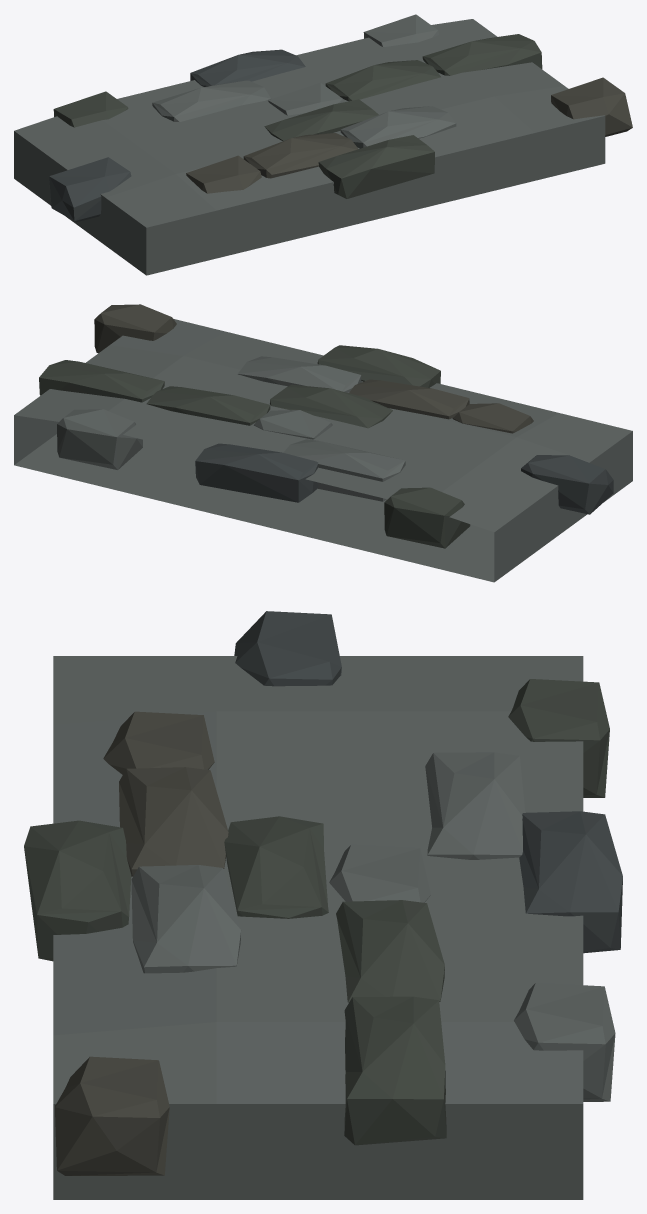
Rendered from MCastle_Cobbles_06.FBX.
3 views of the same model, one above another, from view 1: azimuth 30°, elevation 25°; view 2: azimuth 150°, elevation 25°; view 3: azimuth 270°, elevation 25° (orthographic). The views are drawn at different scales.
Parts seen in each view (by area): view 1: MCastle_Cobbles_06_LOD0; view 2: MCastle_Cobbles_06_LOD0; view 3: MCastle_Cobbles_06_LOD0.
Part boxes in pixels (left/top/right/bottom): MCastle_Cobbles_06_LOD0: left=14, top=14, right=632, bottom=275; MCastle_Cobbles_06_LOD0: left=14, top=304, right=632, bottom=582; MCastle_Cobbles_06_LOD0: left=24, top=611, right=622, bottom=1199.
Size of what is drawn, in the model's own units: 4.5 by 0.5659 by 2.24.
